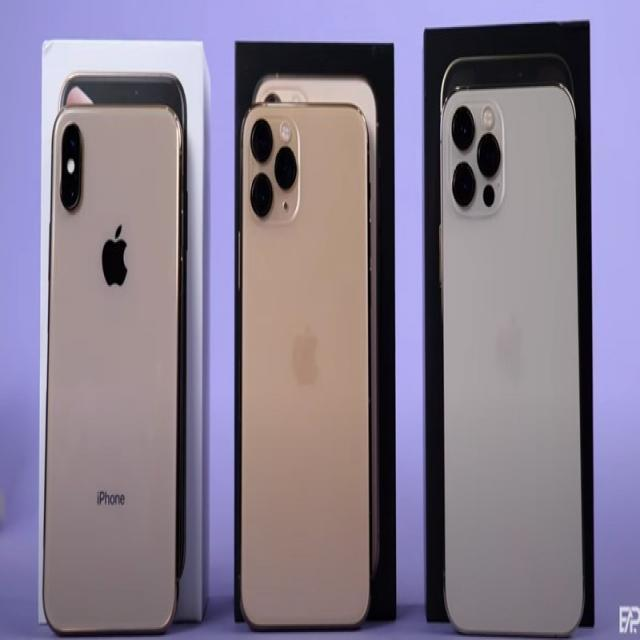phone: (439, 85, 583, 640), (42, 102, 178, 636), (238, 104, 370, 630)
